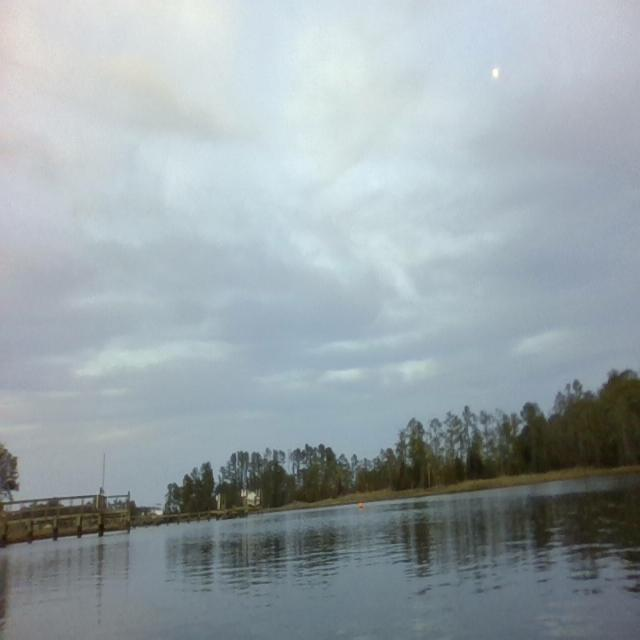Buoy: (357, 499, 364, 511)
